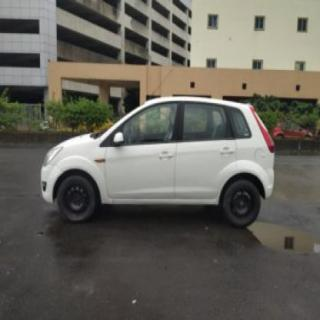Normal_vehicle: (41, 96, 275, 227)
